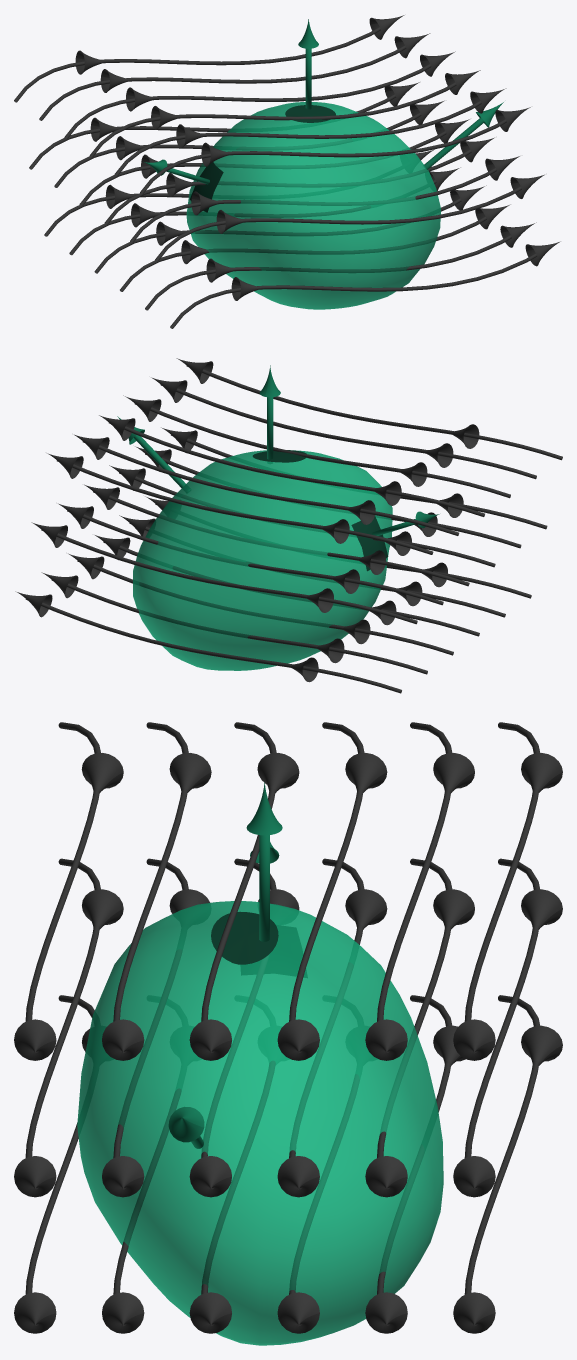
File: 15_Flux in Closed surface in electric field.glb
3 renders of one model, top to bottom at view 1: azimuth 30°, elevation 25°; view 2: azimuth 150°, elevation 25°; view 3: azimuth 270°, elevation 25°, orthographic. The views are drawn at different scales.
Visible parts, largest first — view 1: Sphere, BézierCurve.001, Cylinder.002, Cylinder.001, Cylinder.003; view 2: Sphere, BézierCurve.001, Cylinder.002, Cylinder.001, Cylinder.003; view 3: Sphere, BézierCurve.001, Cylinder.002, Cylinder.001.
Part boxes in pixels (x1,y1,x2,y2): Sphere: (186, 102, 440, 309); BézierCurve.001: (14, 15, 560, 328); Cylinder.002: (298, 19, 318, 109); Cylinder.001: (423, 102, 503, 169); Cylinder.003: (144, 159, 209, 184); Sphere: (133, 450, 392, 670); BézierCurve.001: (15, 358, 562, 693); Cylinder.002: (259, 365, 280, 463); Cylinder.001: (117, 416, 190, 493); Cylinder.003: (372, 511, 439, 535); Sphere: (77, 901, 443, 1345); BézierCurve.001: (14, 722, 562, 1333); Cylinder.002: (246, 782, 282, 941); Cylinder.001: (168, 1106, 204, 1148).
Size of the model in its own units: 4.46 by 2.99 by 2.93.
